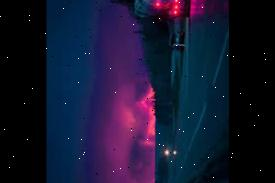fire: (136, 84, 154, 147)
